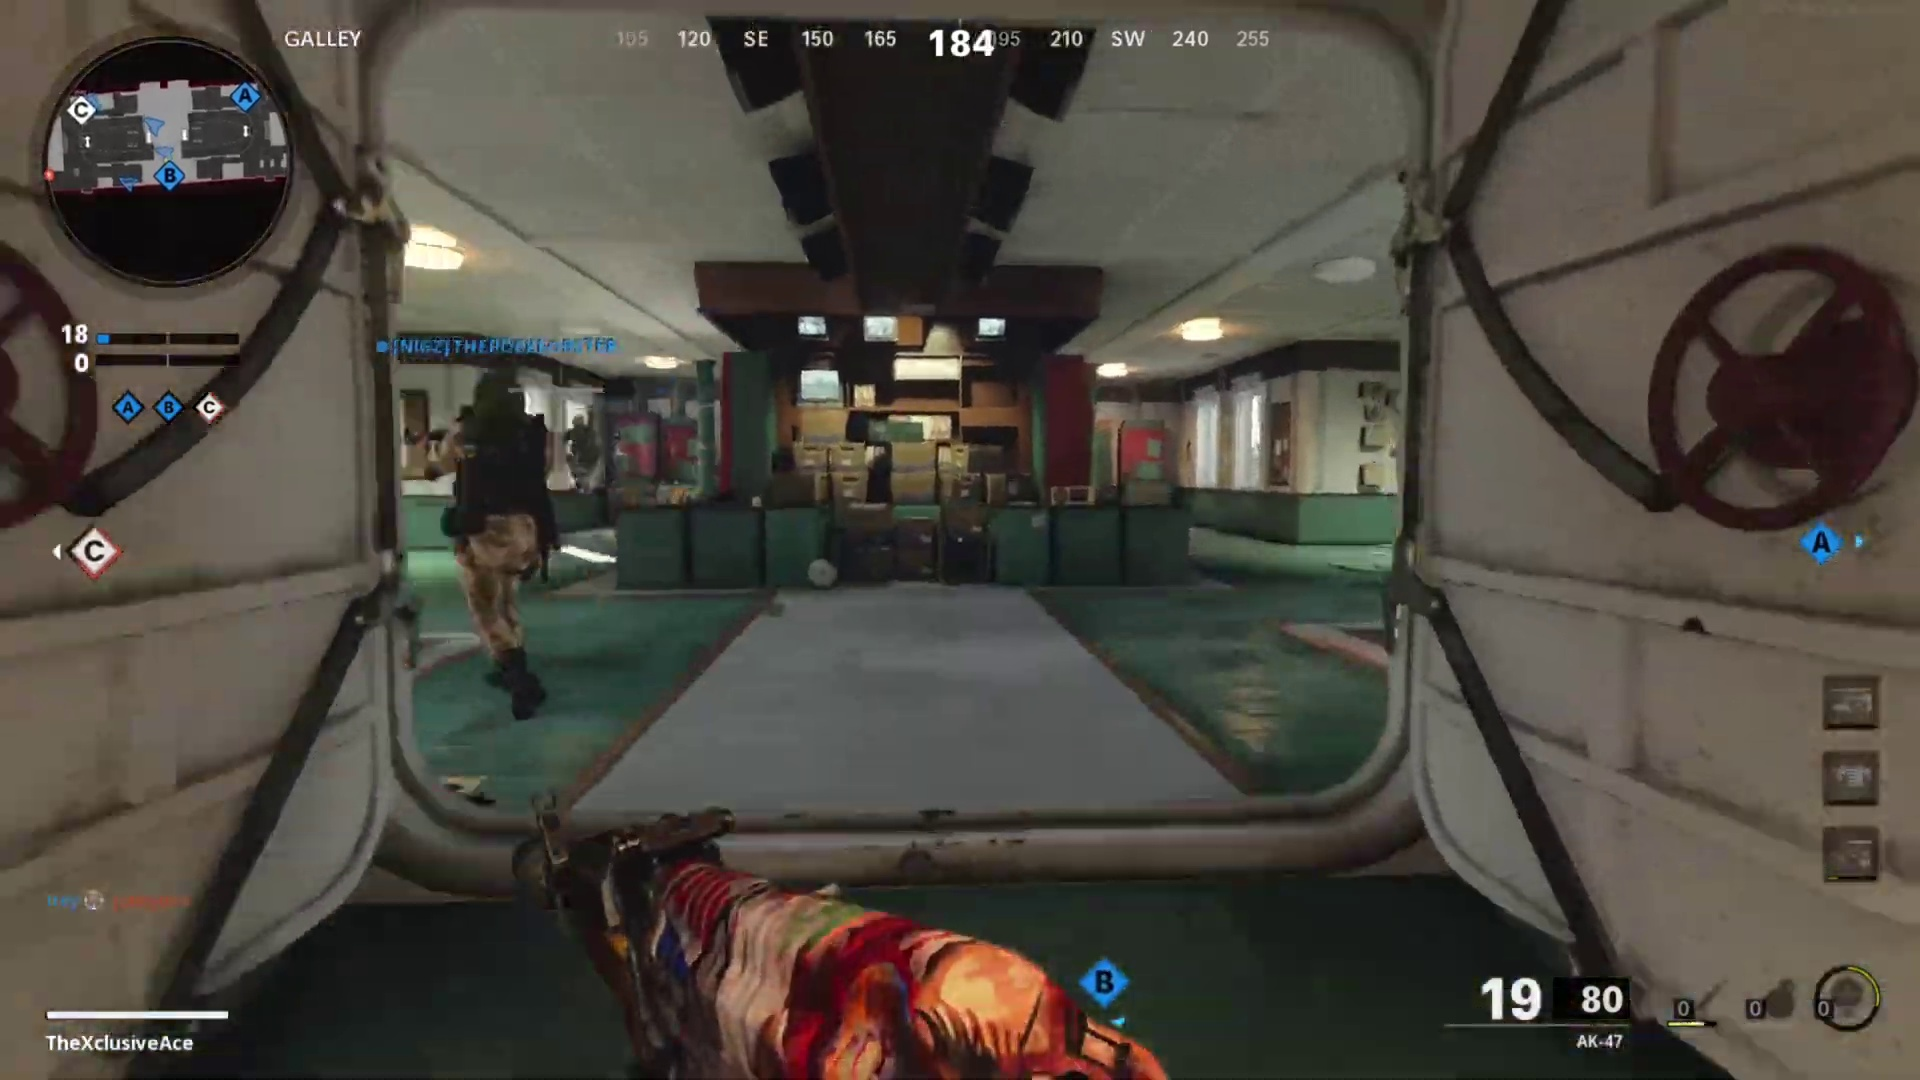head: (461, 364, 533, 439)
person: (438, 364, 558, 713)
